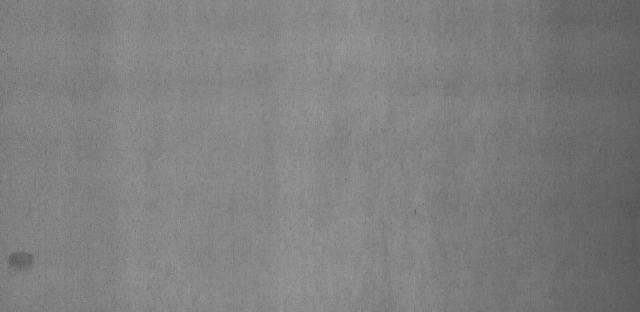oil_spot: (6, 246, 38, 278)
